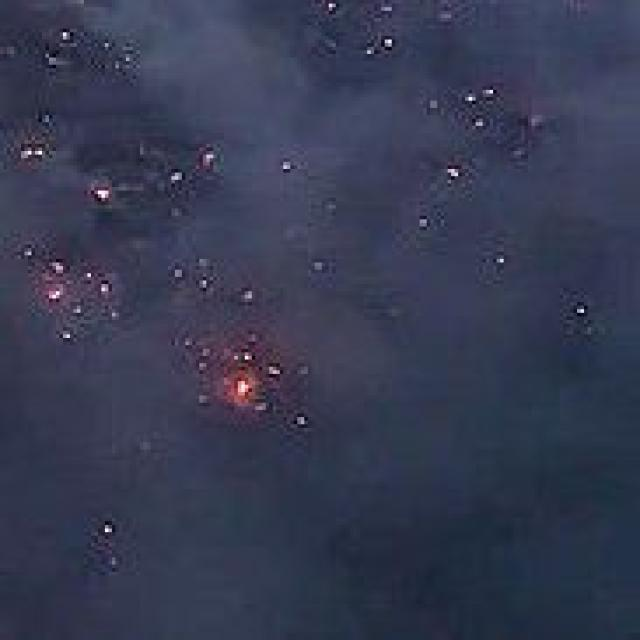Fire: (82, 176, 122, 217), (228, 366, 261, 412), (46, 281, 70, 303)
Smoke: (0, 0, 640, 640)
